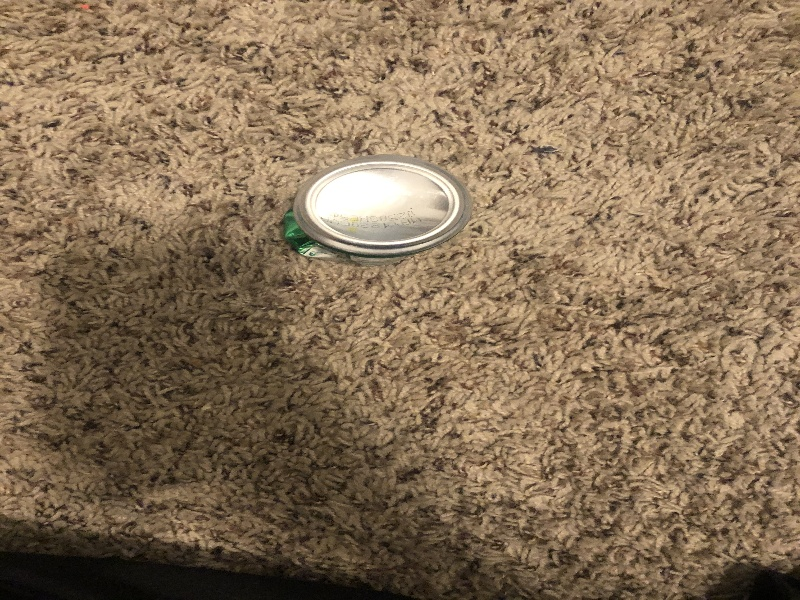metal: (276, 152, 472, 272)
